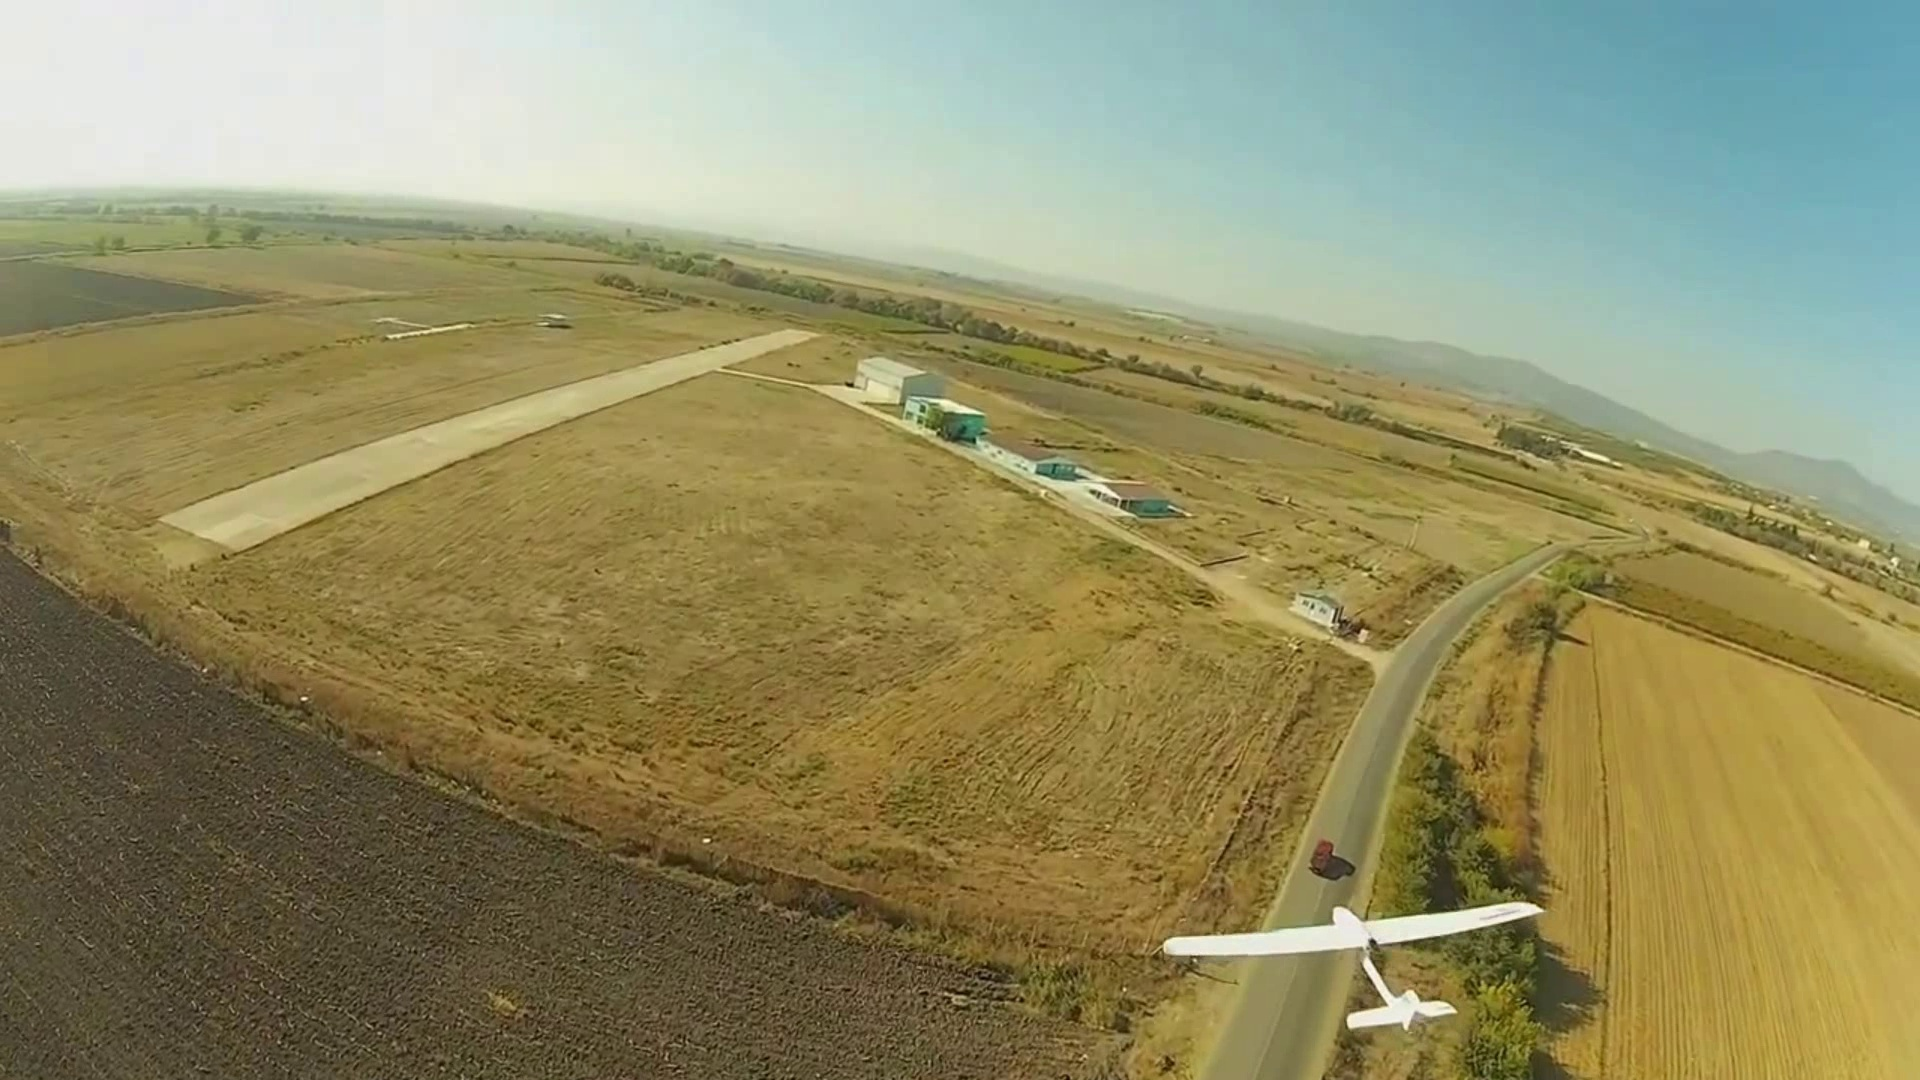airplane: (1153, 524, 1917, 1077)
